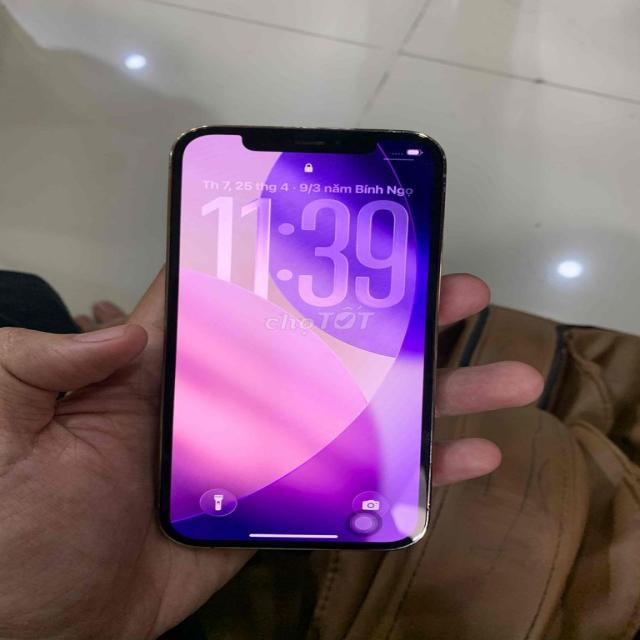gen_12_13: (150, 123, 460, 571)
